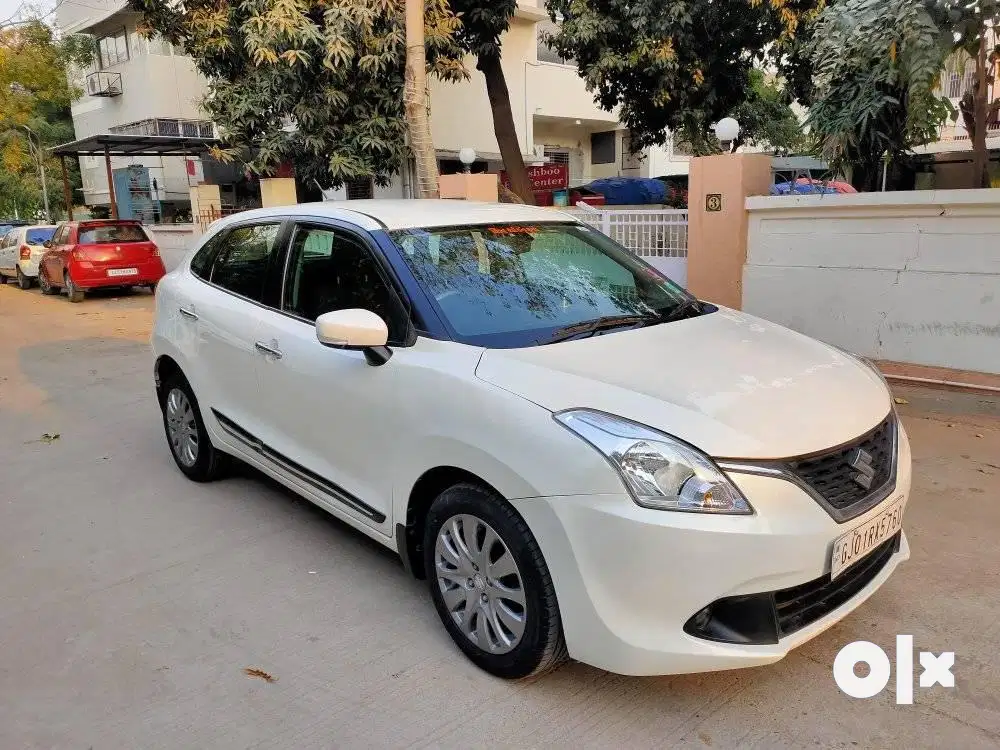car: (144, 196, 926, 700)
